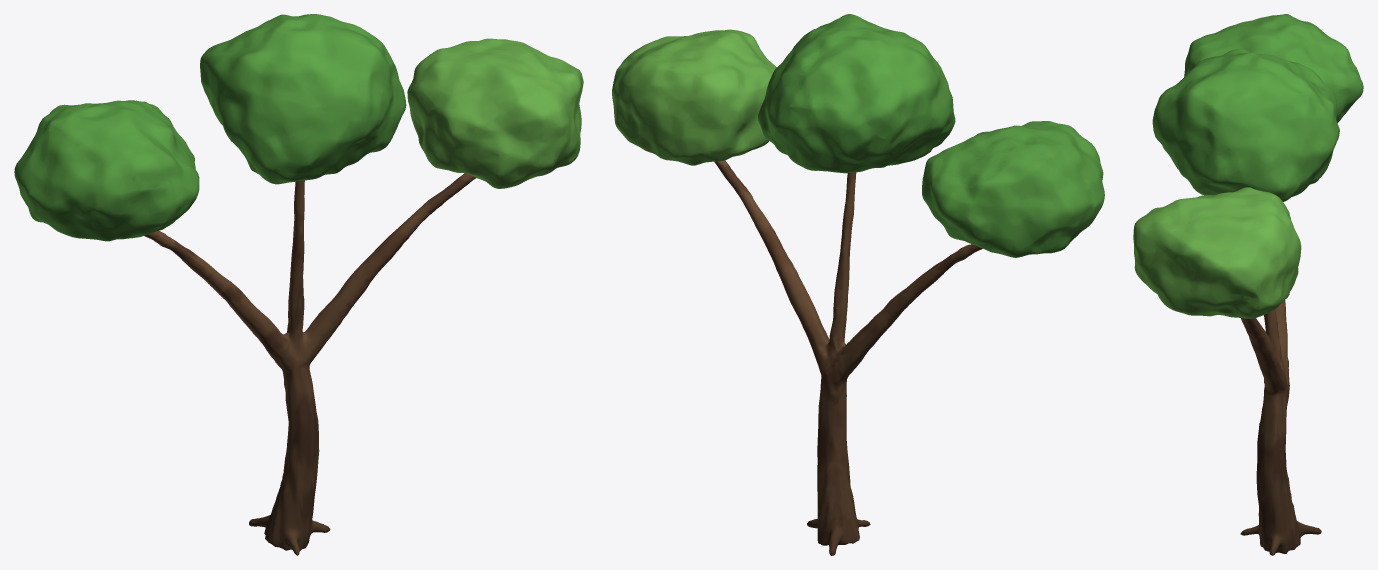
Rendered from broadleaf_young_sparse.glb.
3 views of the same model, side by side, from view 1: azimuth 30°, elevation 25°; view 2: azimuth 150°, elevation 25°; view 3: azimuth 270°, elevation 25° (orthographic). The views are drawn at different scales.
Parts seen in each view (by area): view 1: broadleaf_young_sparse_LOD0; view 2: broadleaf_young_sparse_LOD0; view 3: broadleaf_young_sparse_LOD0.
Boxes of the visible parts, x1,y1,x2,y2 form: broadleaf_young_sparse_LOD0: (14,14,583,555); broadleaf_young_sparse_LOD0: (612,14,1104,555); broadleaf_young_sparse_LOD0: (1133,14,1363,555).
Size of what is drawn, in the model's own units: 3.35 by 3.25 by 1.4.
